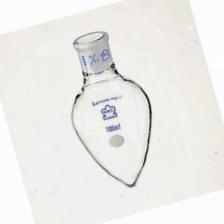Pear shaped flask: (59, 34, 154, 191)
